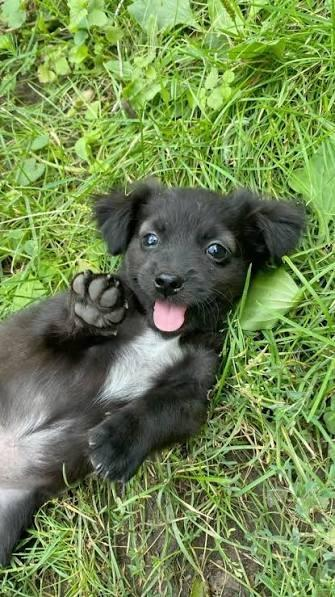puppy-dog: (0, 177, 309, 567)
